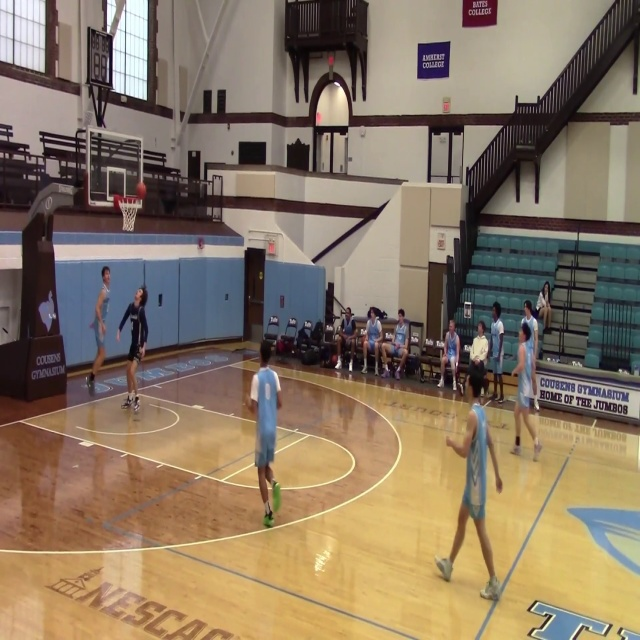Basketball: (453, 443, 469, 458), (135, 182, 147, 199)
